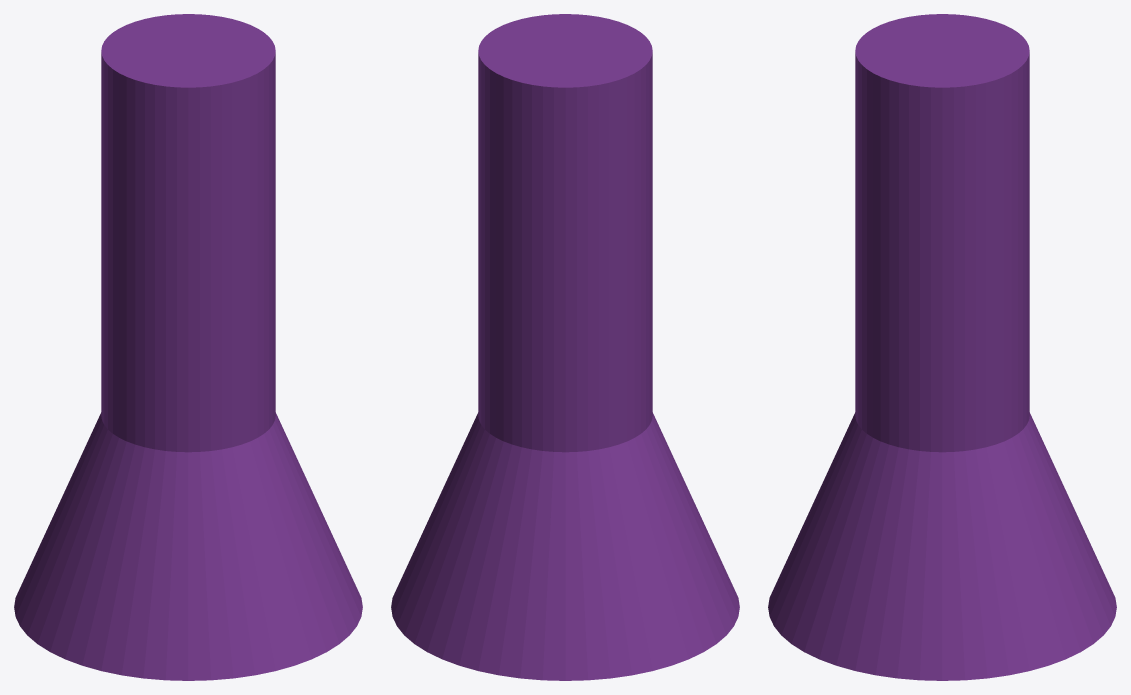
File: tinker.obj
3 views of the same model, side by side, from view 1: azimuth 30°, elevation 25°; view 2: azimuth 150°, elevation 25°; view 3: azimuth 270°, elevation 25° (orthographic).
Parts seen in each view (by area): view 1: obj_0; view 2: obj_0; view 3: obj_0.
Boxes of the visible parts, <box> form: obj_0: <box>14,14,362,680</box>; obj_0: <box>391,14,739,680</box>; obj_0: <box>768,14,1116,680</box>.
Size of the model in its own units: 25 by 44 by 25.
